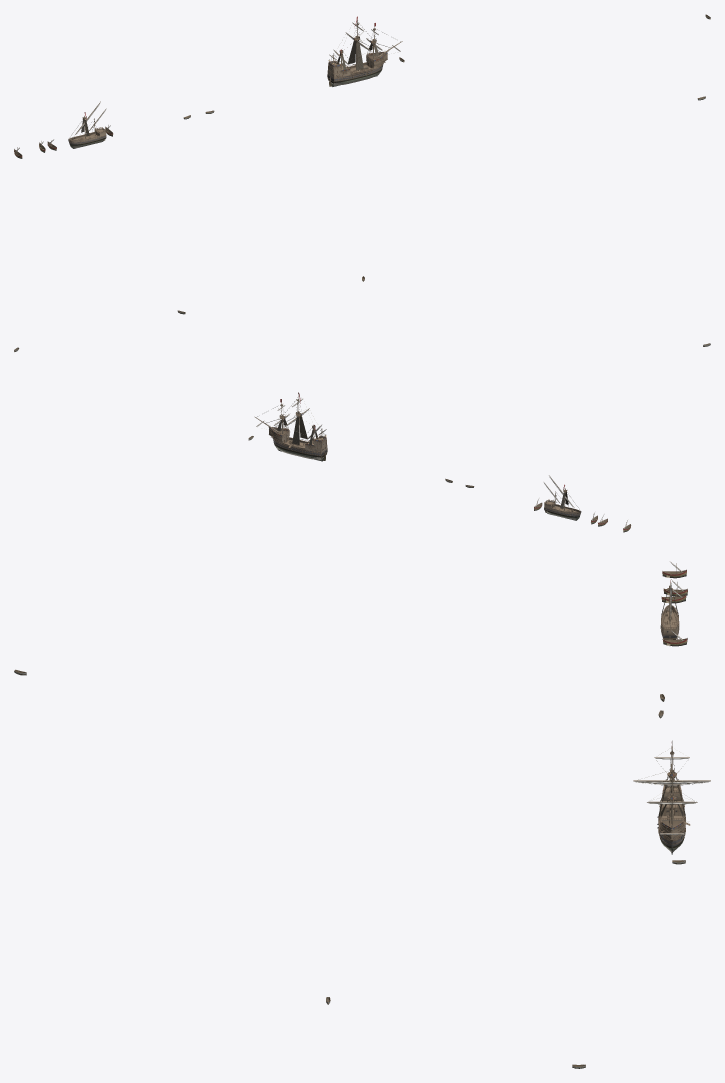
File: ships.glb
3 renders of one model, top to bottom at view 1: azimuth 30°, elevation 25°; view 2: azimuth 150°, elevation 25°; view 3: azimuth 270°, elevation 25°, orthographic. The views are drawn at different scales.
Parts seen in each view (by area): view 1: carrack_hull.001, carrack_rig.001, caravel.001; view 2: carrack_hull.001, carrack_rig.001, caravel.001; view 3: carrack_hull.001, carrack_rig.001.
Part boxes in pixels (x1,y1,x2,y2): carrack_hull.001: [327, 51, 387, 86]; carrack_rig.001: [329, 16, 402, 74]; caravel.001: [68, 101, 106, 148]; carrack_hull.001: [269, 427, 327, 461]; carrack_rig.001: [254, 392, 326, 449]; caravel.001: [543, 475, 581, 520]; carrack_hull.001: [657, 779, 685, 854]; carrack_rig.001: [638, 740, 698, 834].
Bounding box in the file's own units: 392 × 36.7 × 233.
